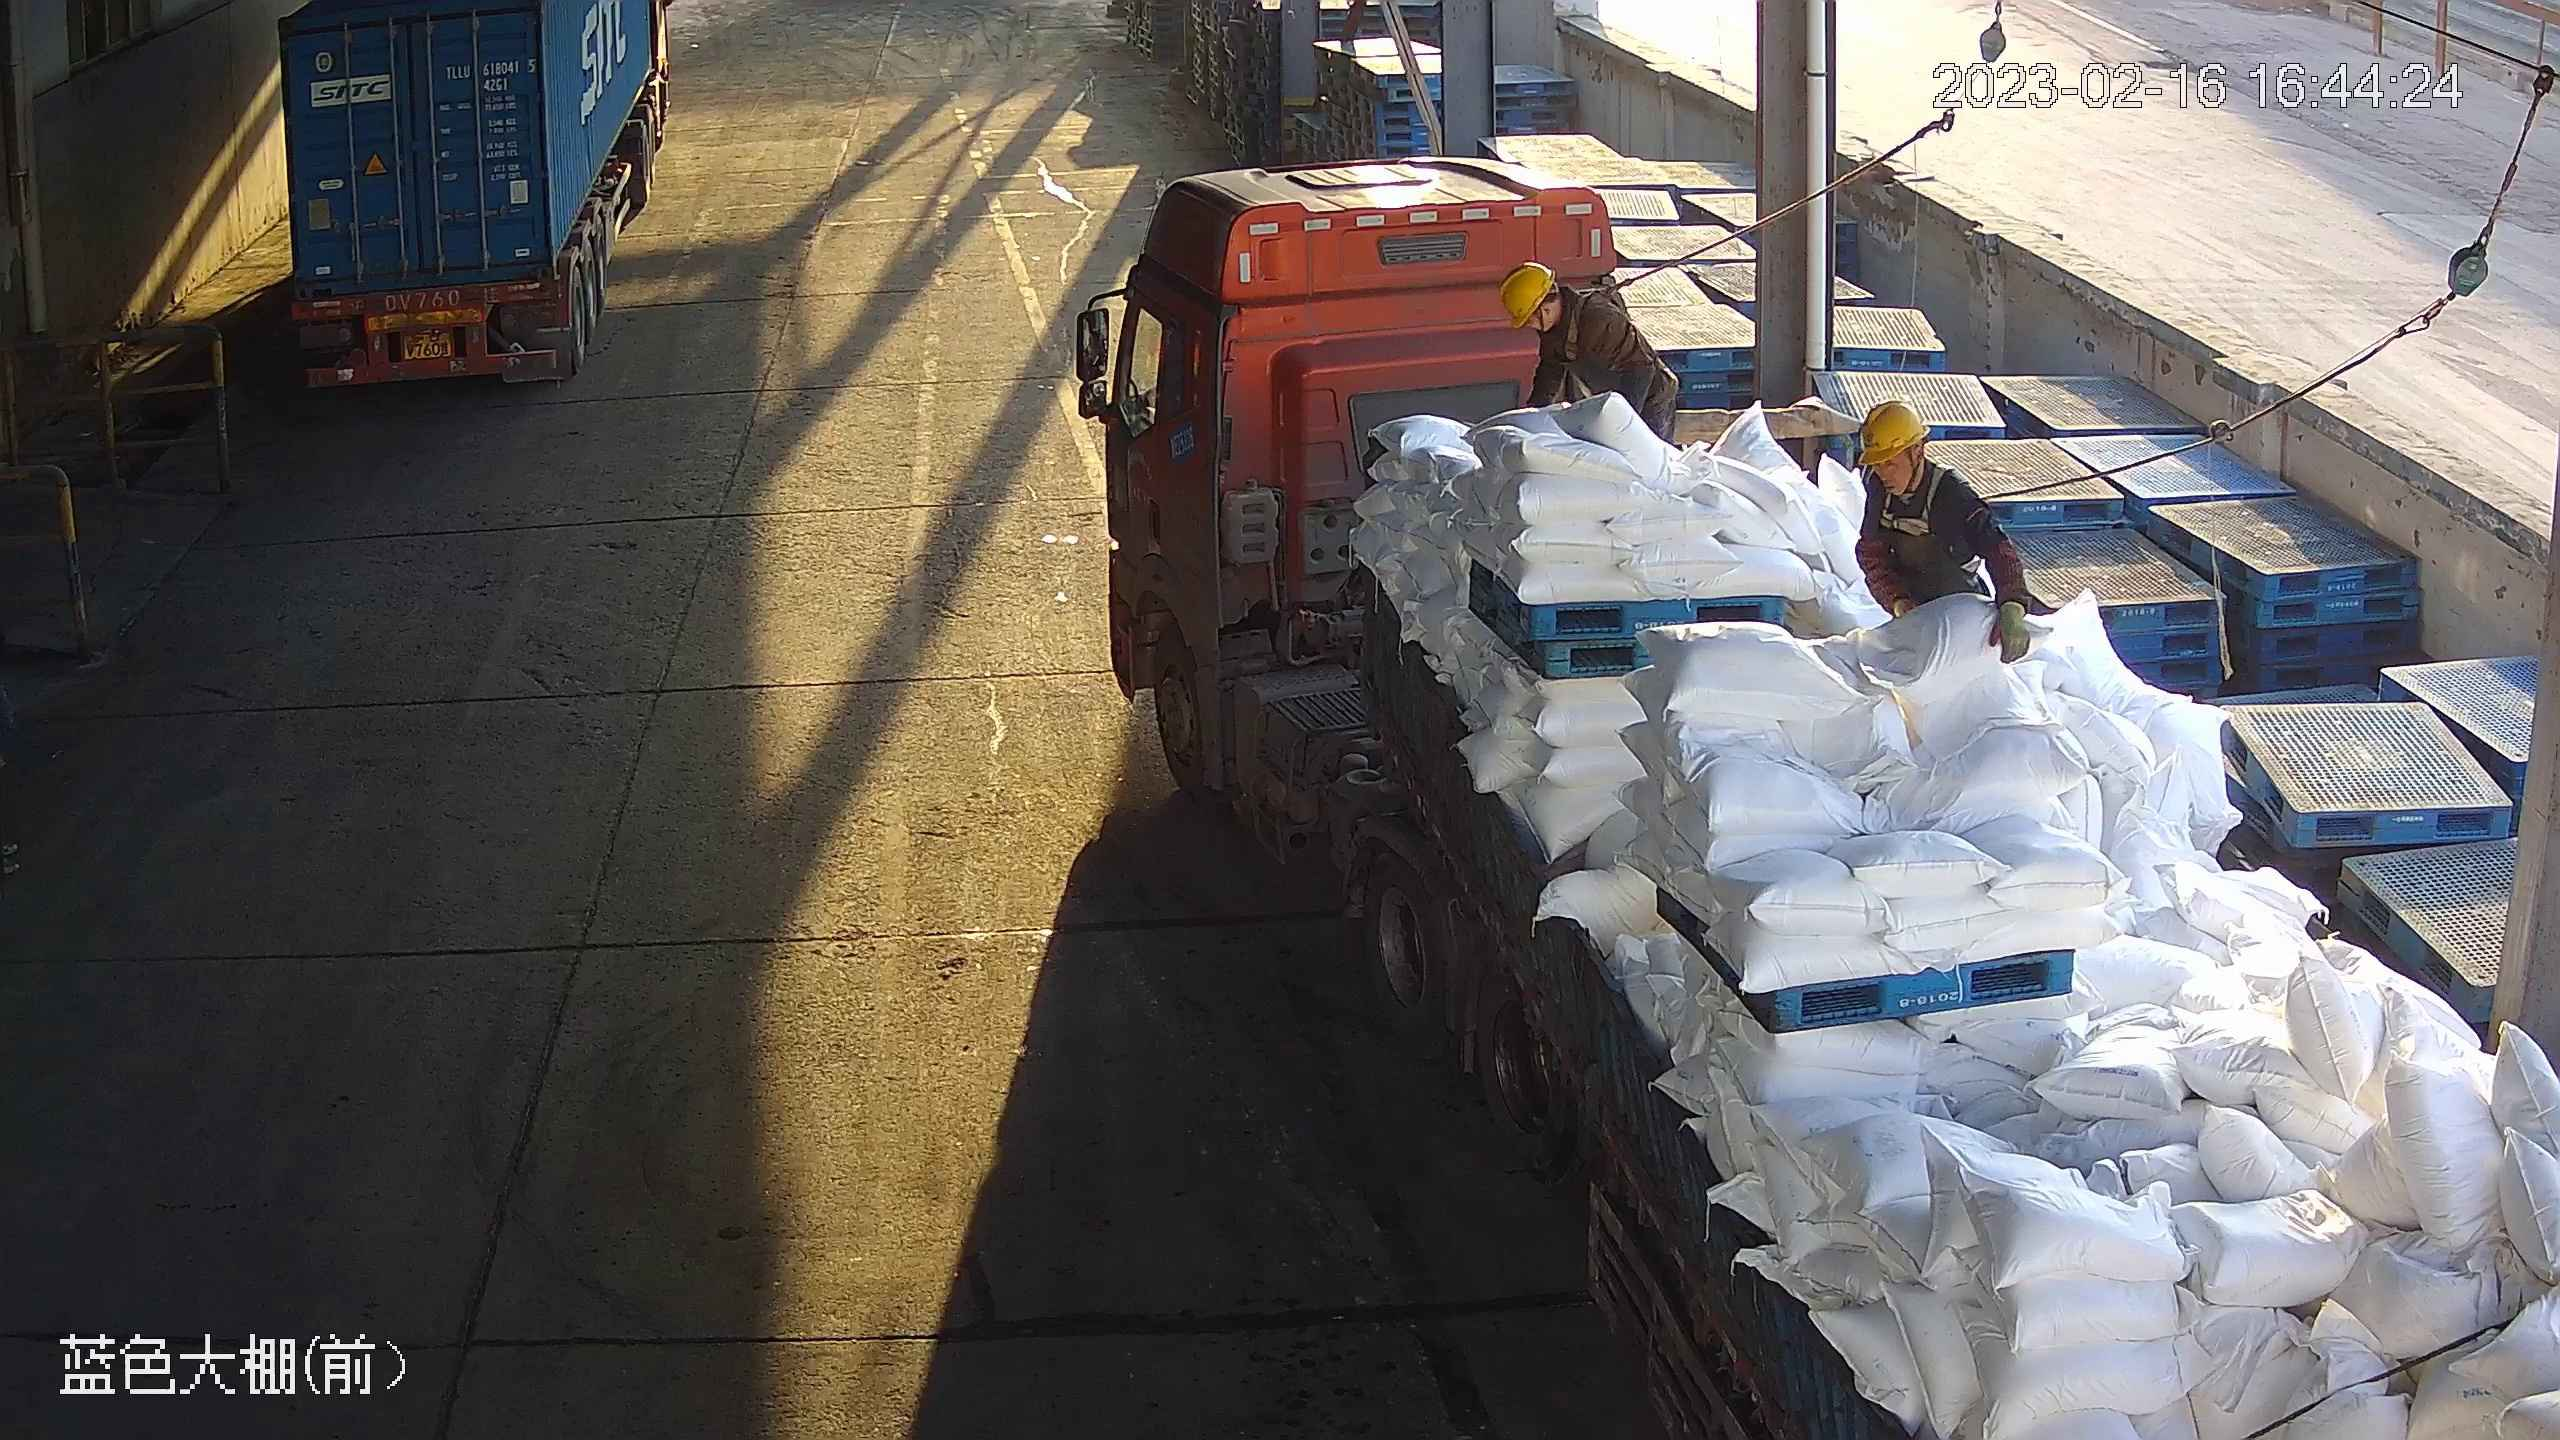belt: (1555, 282, 1633, 360), (1875, 466, 1959, 534)
head: (1861, 388, 1979, 516), (1507, 258, 1611, 369)
helmet: (1849, 388, 1946, 462), (1503, 250, 1570, 325)
truck: (1094, 164, 2560, 1440), (253, 1, 675, 403)
